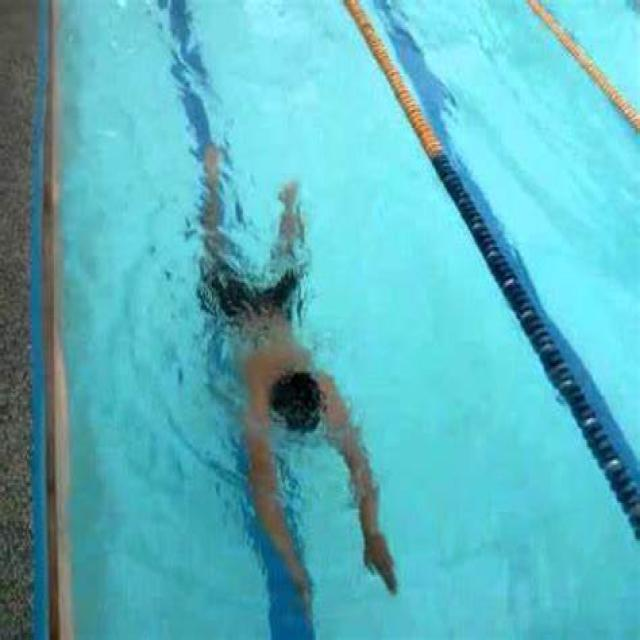Swimming: (196, 140, 399, 595)
